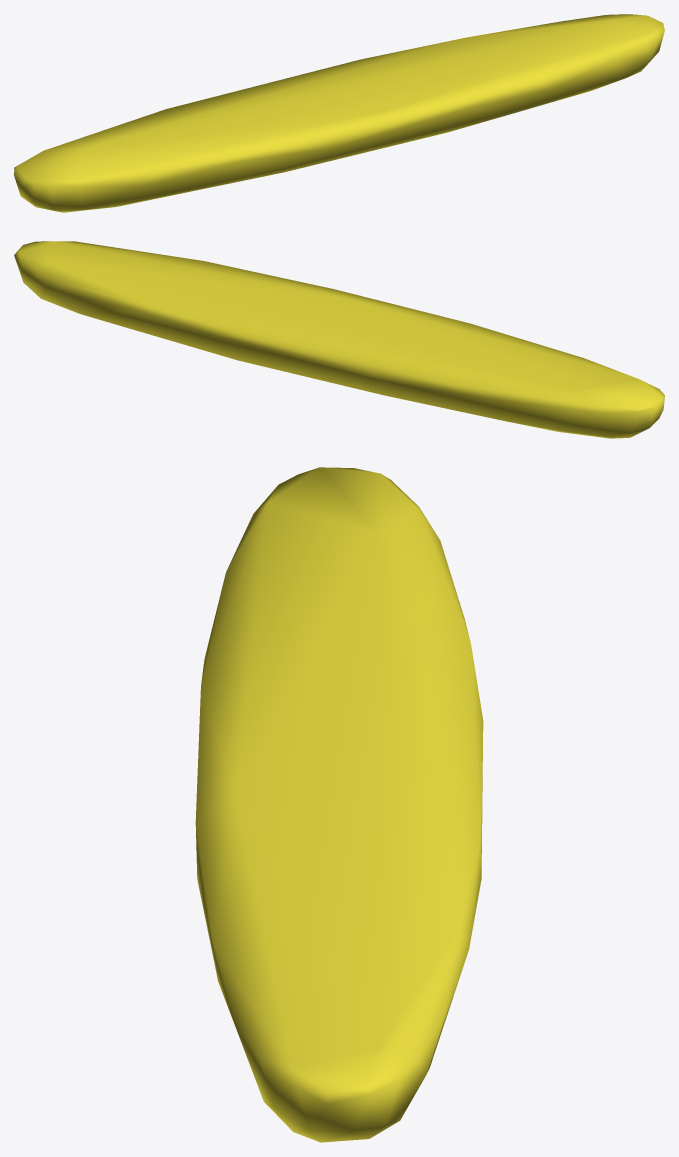
Rendered from yut-3.glb.
The picture shows the model from 3 angles, top to bottom: view 1: azimuth 30°, elevation 25°; view 2: azimuth 150°, elevation 25°; view 3: azimuth 270°, elevation 25°; orthographic projection. The views are drawn at different scales.
Parts seen in each view (by area): view 1: Cube.001; view 2: Cube.001; view 3: Cube.001.
Boxes of the visible parts, box(x1,y1,x2,y2) form: Cube.001: box(14, 14, 664, 212); Cube.001: box(14, 241, 664, 438); Cube.001: box(195, 467, 483, 1142).
Size of the model in its own units: 12.55 by 0.9041 by 2.44.
